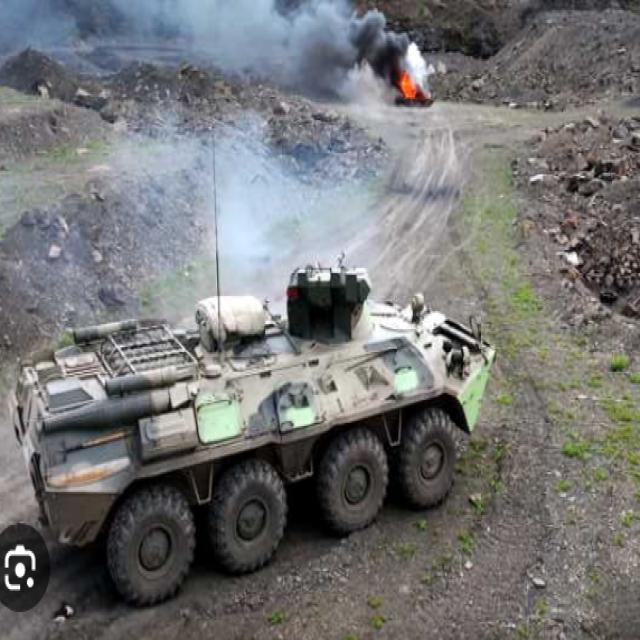MIL_APC: (5, 242, 519, 607)
